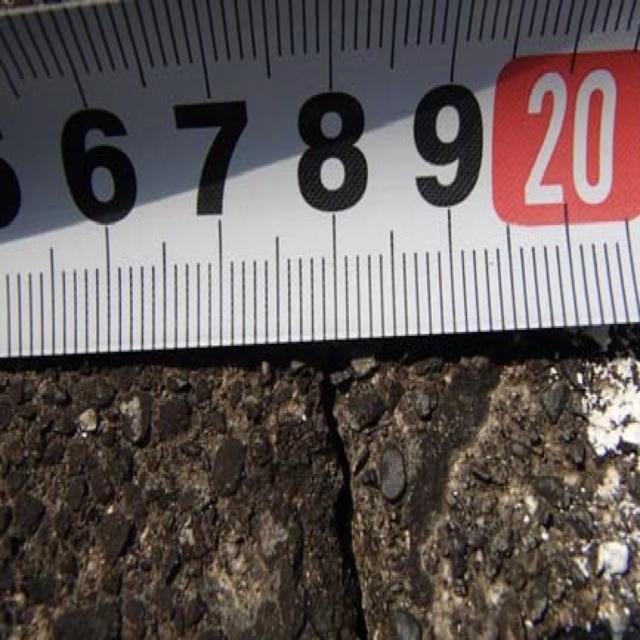crack: (296, 357, 396, 640)
